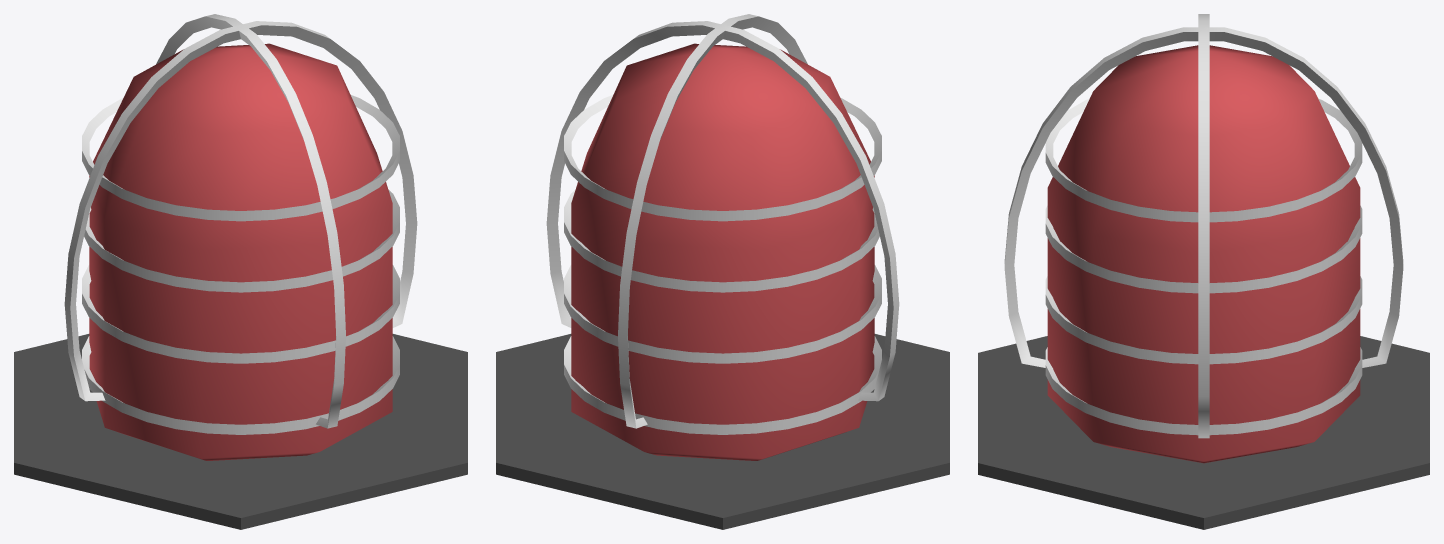
The model's file is BossCore.fbx.
3 renders of one model, left to right at view 1: azimuth 30°, elevation 25°; view 2: azimuth 150°, elevation 25°; view 3: azimuth 270°, elevation 25°, orthographic.
Parts seen in each view (by area): view 1: pCylinder3; view 2: pCylinder3; view 3: pCylinder3.
Part boxes in pixels (bbox=[...]): pCylinder3: bbox=[14, 14, 467, 529]; pCylinder3: bbox=[496, 14, 949, 529]; pCylinder3: bbox=[978, 14, 1429, 529].
Size of the model in its own units: 20 by 16.5 by 17.32.
